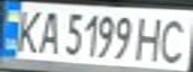1: (78, 10, 100, 57)
5: (60, 9, 84, 56)
9: (112, 12, 139, 61), (97, 11, 118, 58)
A: (33, 7, 63, 55)
C: (154, 13, 193, 64)
H: (133, 12, 166, 63)
K: (9, 6, 45, 54)
